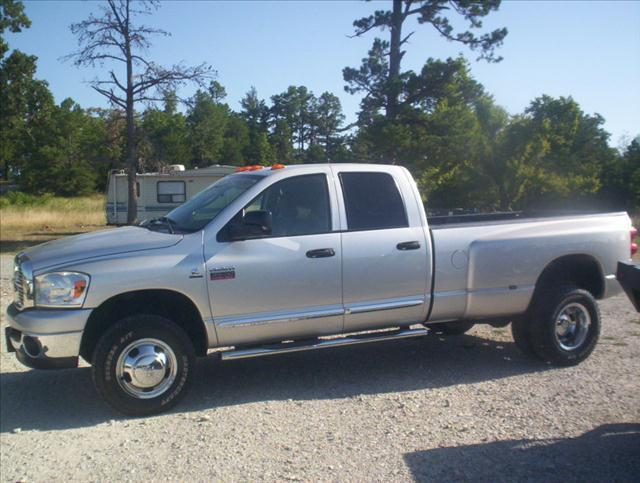Car: (6, 144, 640, 425)
